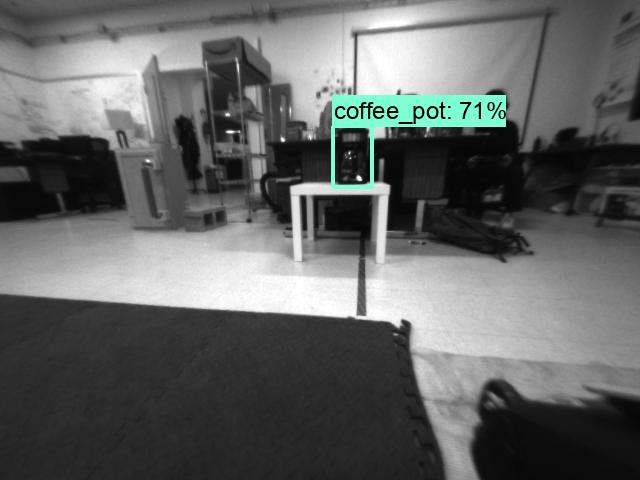coffee_pot: (332, 126, 373, 186)
